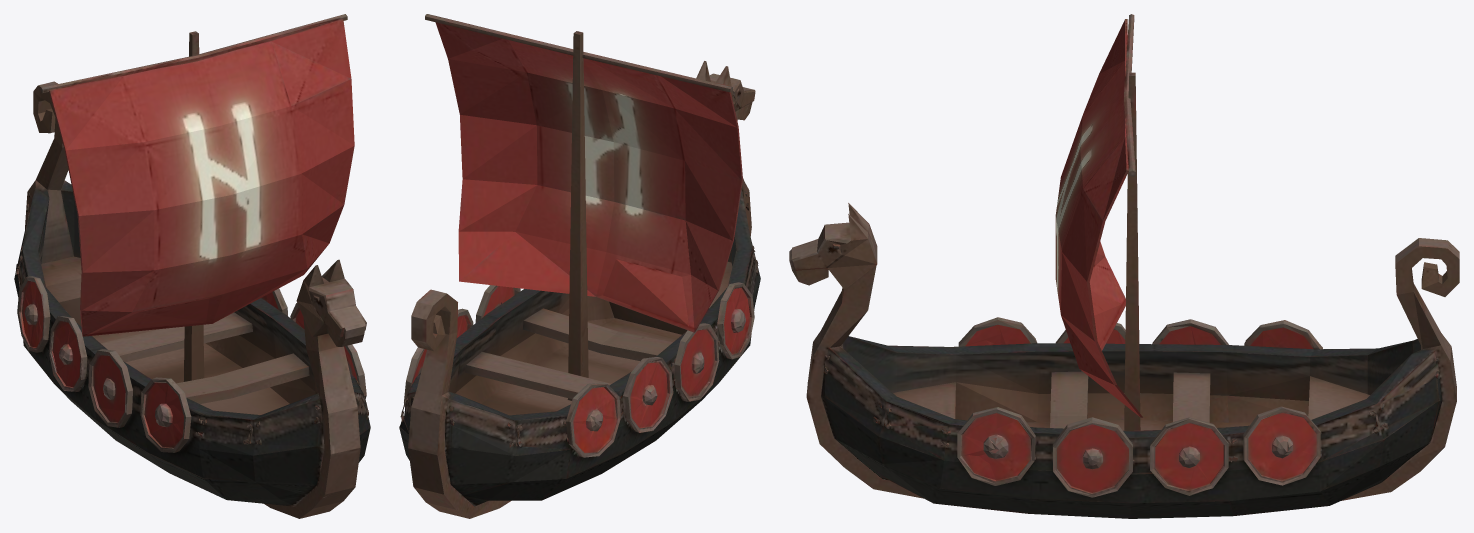
The model's file is draugr.glb.
3 views of the same model, side by side, from view 1: azimuth 30°, elevation 25°; view 2: azimuth 150°, elevation 25°; view 3: azimuth 270°, elevation 25° (orthographic). The views are drawn at different scales.
Visible parts, largest first — view 1: tripo_node_ad1fb86c-1487-4ee1-9456-81a76059c8cd; view 2: tripo_node_ad1fb86c-1487-4ee1-9456-81a76059c8cd; view 3: tripo_node_ad1fb86c-1487-4ee1-9456-81a76059c8cd.
Boxes of the visible parts, box(x1,y1,x2,y2) form: tripo_node_ad1fb86c-1487-4ee1-9456-81a76059c8cd: box(14, 14, 370, 518); tripo_node_ad1fb86c-1487-4ee1-9456-81a76059c8cd: box(399, 14, 760, 518); tripo_node_ad1fb86c-1487-4ee1-9456-81a76059c8cd: box(789, 14, 1459, 518).
Bounding box in the file's own units: 0.5488 × 0.7012 × 0.998.
1 material, 1 textured.
